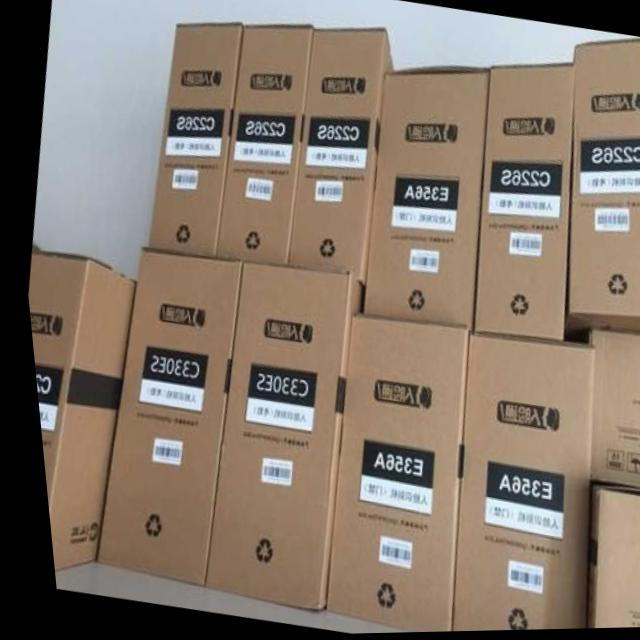box: (193, 263, 357, 611), (85, 247, 238, 586), (317, 315, 463, 634), (438, 337, 587, 633), (356, 66, 487, 331), (23, 249, 131, 569), (467, 66, 572, 343), (282, 29, 390, 288), (556, 41, 640, 339), (210, 26, 313, 267), (142, 24, 241, 259), (575, 484, 640, 631), (582, 330, 640, 492)
